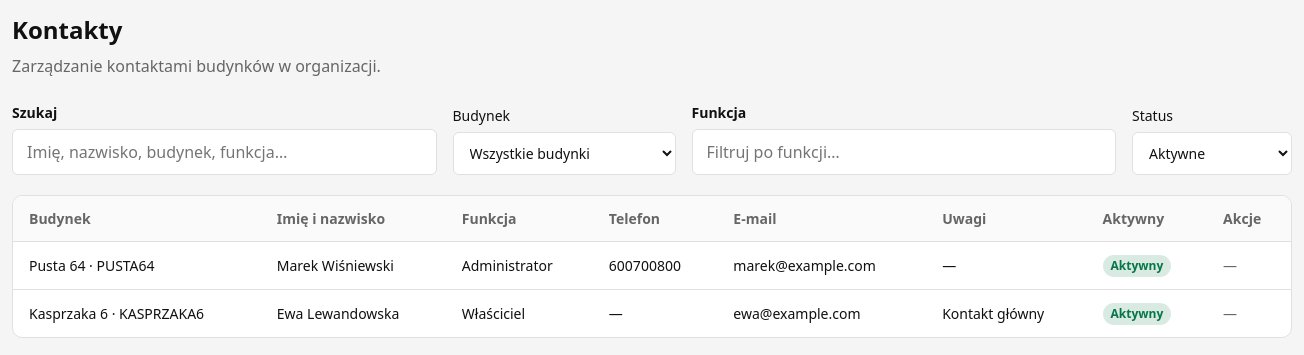
ContactsPage › filters by building
Expected: the text "Marek Wiśniewski" is shown, [261,242,446,290]
Select "Pusta 64 (PUSTA64)" in the dropdown named "Filtr budynku" at [564, 154], box [452,132,676,175]
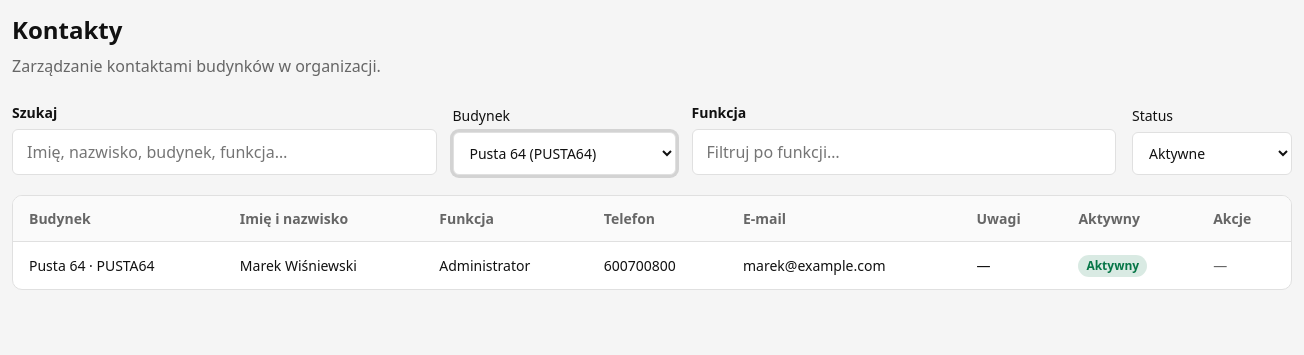
Expected: the text "Marek Wiśniewski" is shown, [224,242,423,289]
Now the text "Ewa Lewandowska" is gone
